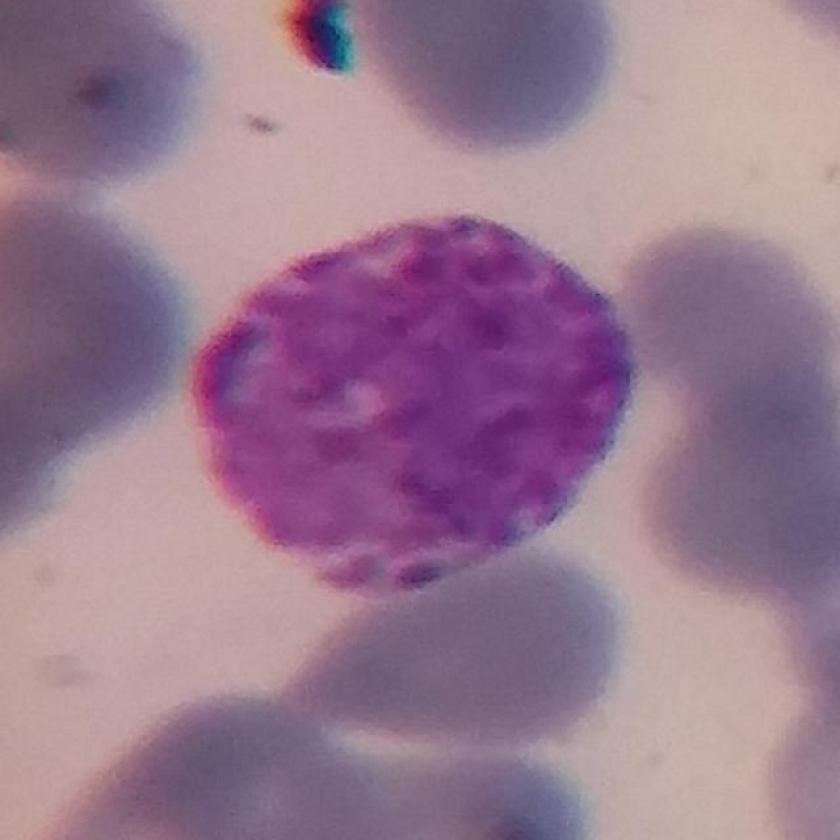basophil: (181, 203, 653, 615)
